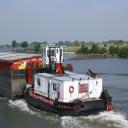tugboat: (22, 43, 116, 122)
